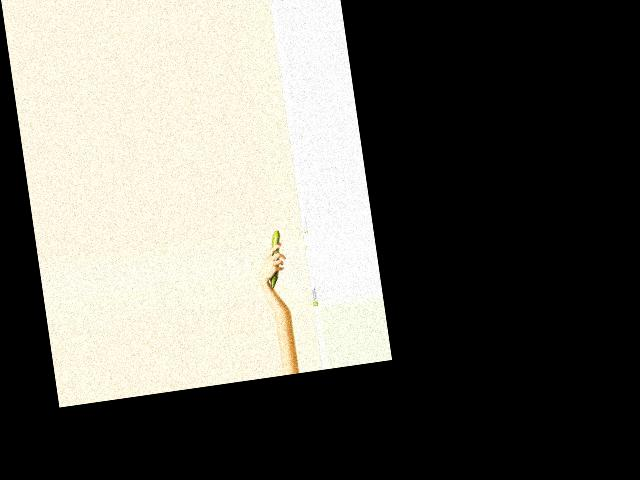cucumber: (263, 230, 288, 289)
